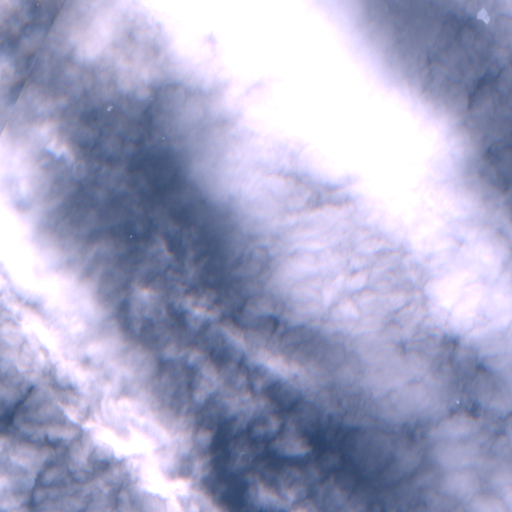Iceberg: (477, 8, 489, 23), (107, 106, 112, 110), (456, 400, 458, 403), (162, 137, 164, 139), (130, 235, 132, 237)
